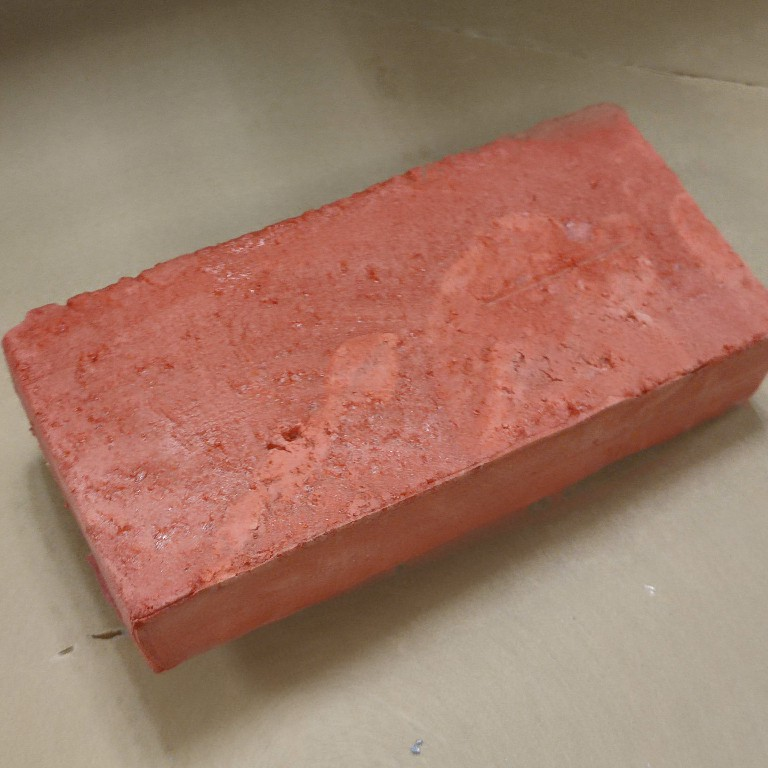brick: (9, 98, 768, 675)
